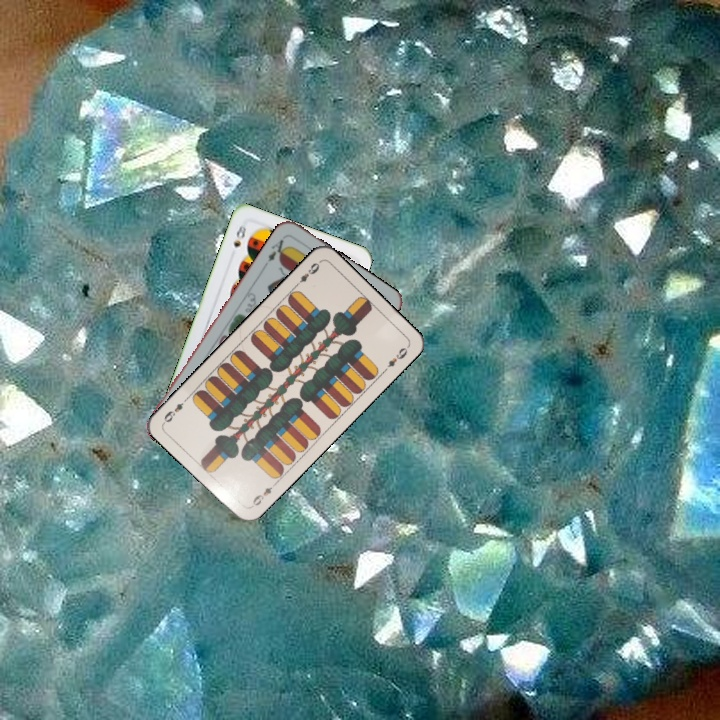E9: (247, 478, 280, 510), (291, 258, 322, 290)
EA: (261, 232, 291, 269)
S8: (229, 221, 249, 250)
